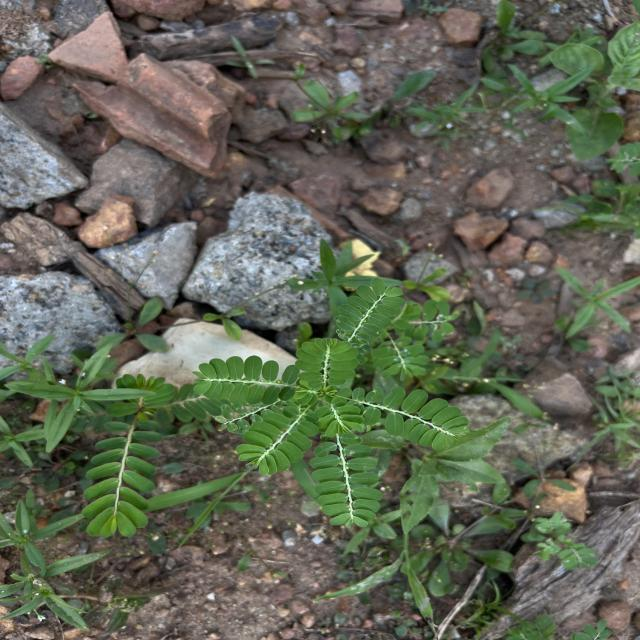Phyllanthus niruri: (82, 412, 160, 538), (348, 386, 470, 449), (310, 431, 384, 530), (233, 409, 320, 476), (192, 353, 298, 406), (333, 274, 405, 346), (292, 334, 357, 392)
